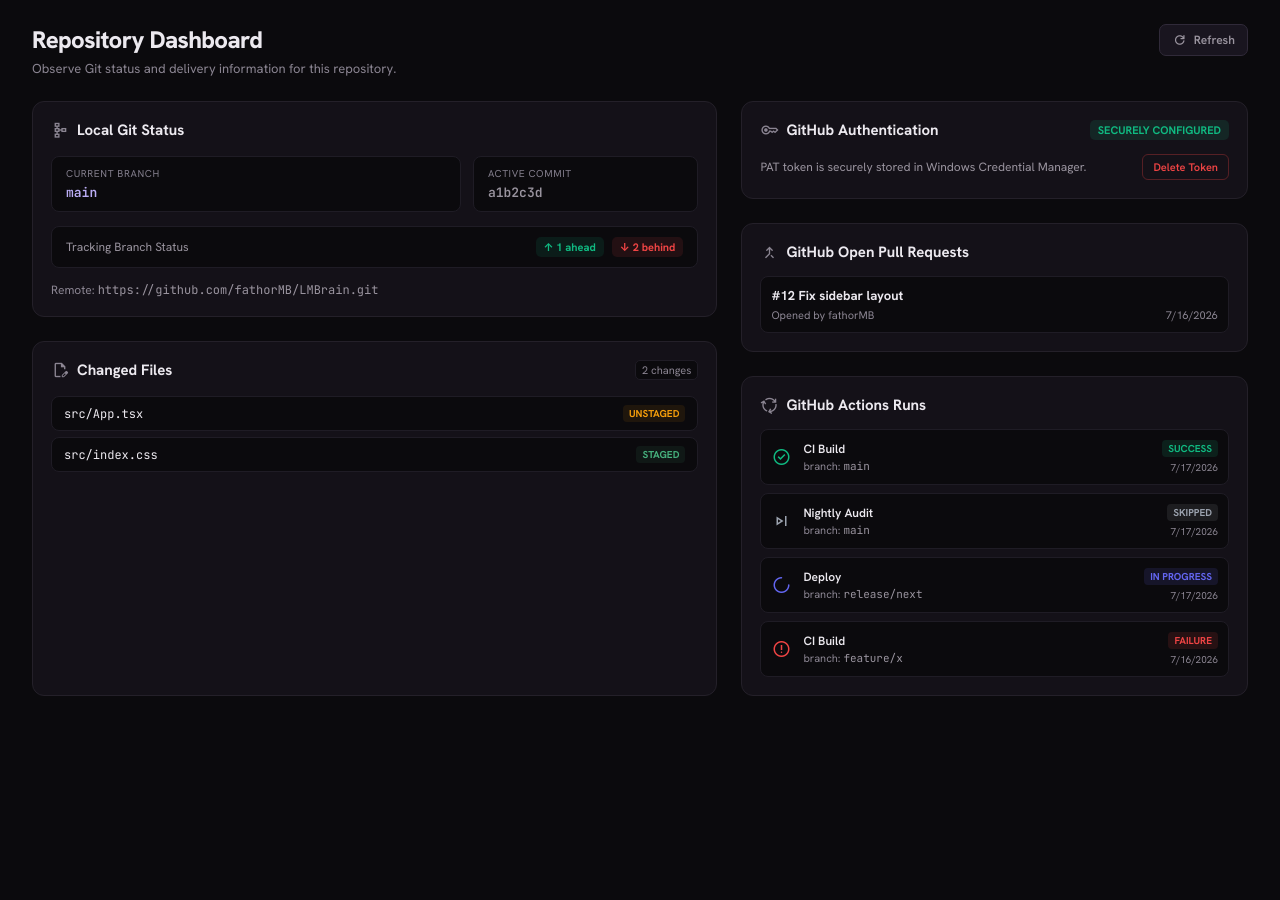
RepositoryView › opens the workflow run details modal with metadata and GitHub link
This screenshot has width=1280, height=900.
Click the button with aria-label "View details for run CI Build, Success, branch main". click: (824, 449)
box: [760,429,1229,485]
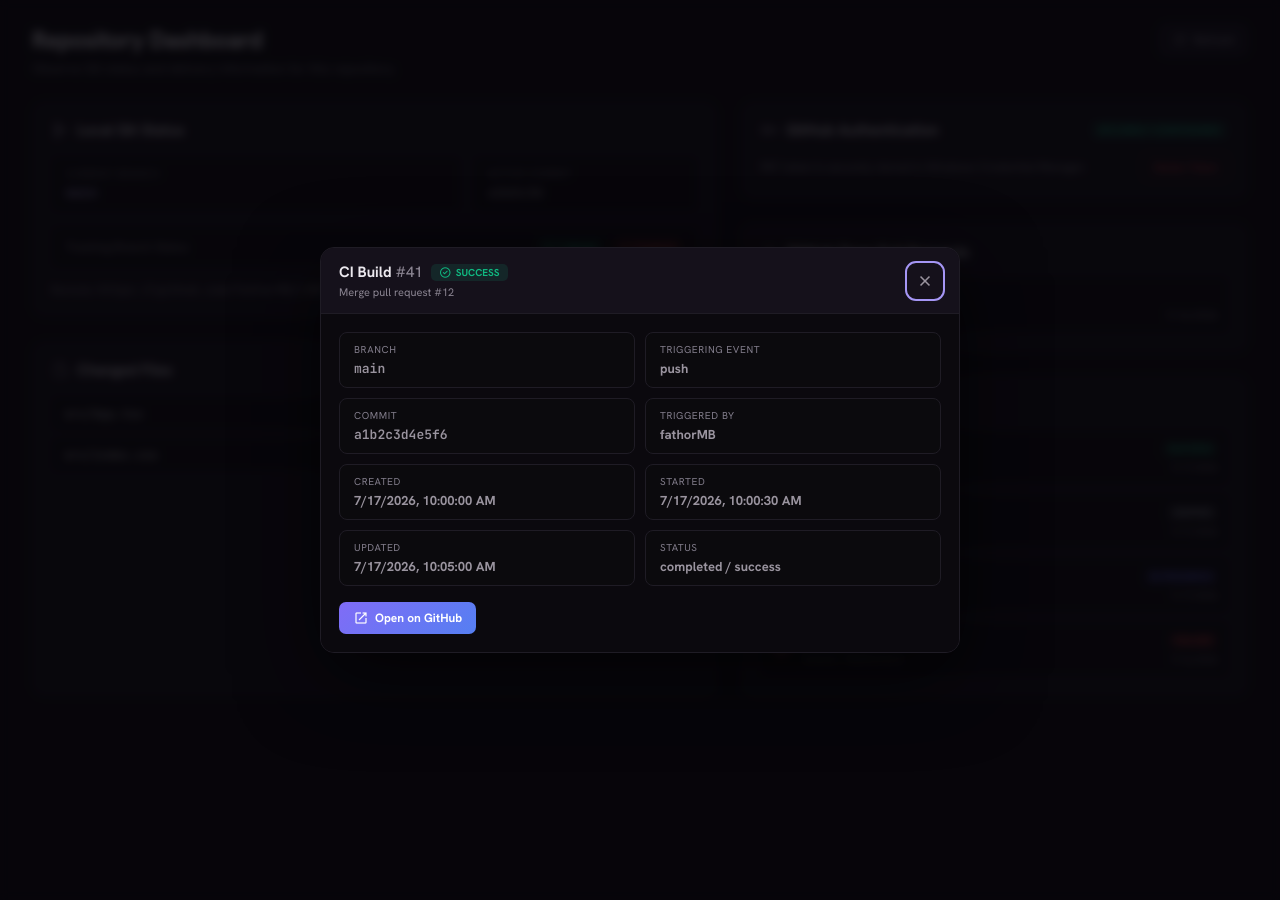
Now the dialog "CI Build" is shown, box [320,247,960,653]
Now the text "push" is shown, box [660,360,688,377]
Now the text "a1b2c3d4e5f6" is shown, box [354,426,448,443]
